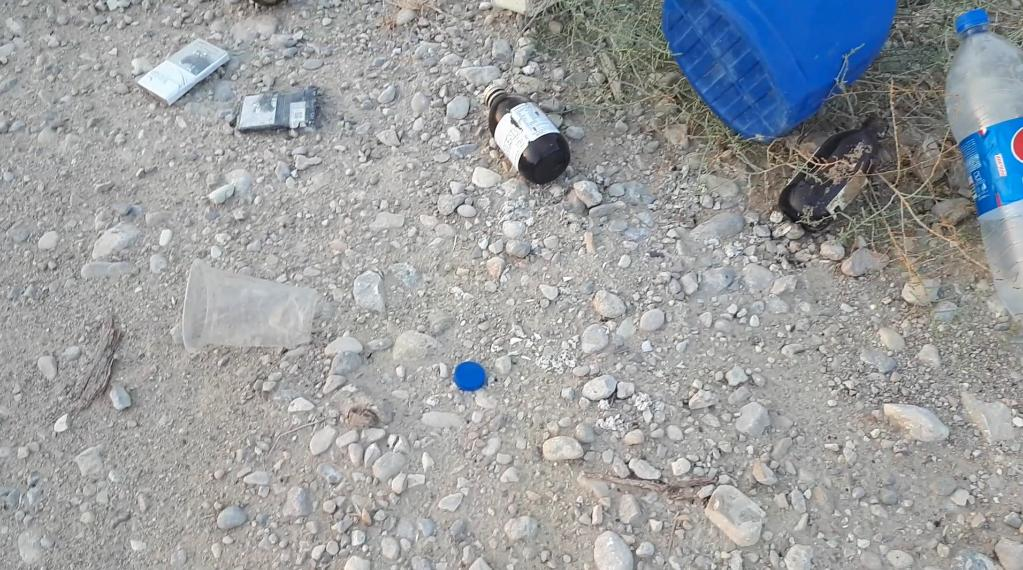garbage: (640, 0, 926, 135), (662, 1, 899, 143), (941, 14, 1023, 318), (945, 9, 1023, 326), (754, 86, 903, 244), (779, 114, 891, 232), (466, 81, 577, 199), (483, 83, 570, 185)
